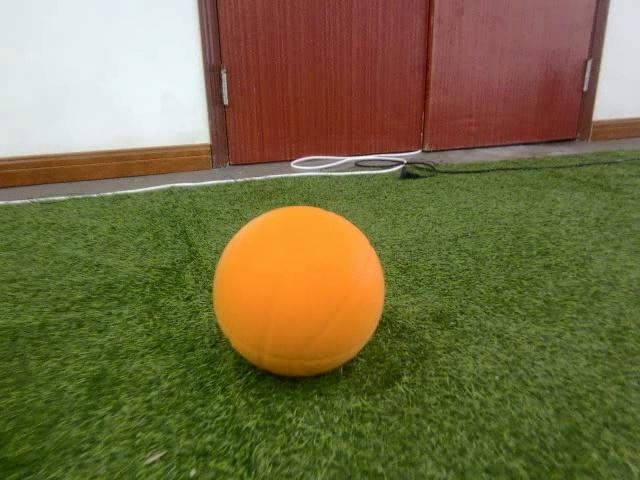orange_ball: (210, 204, 385, 379)
